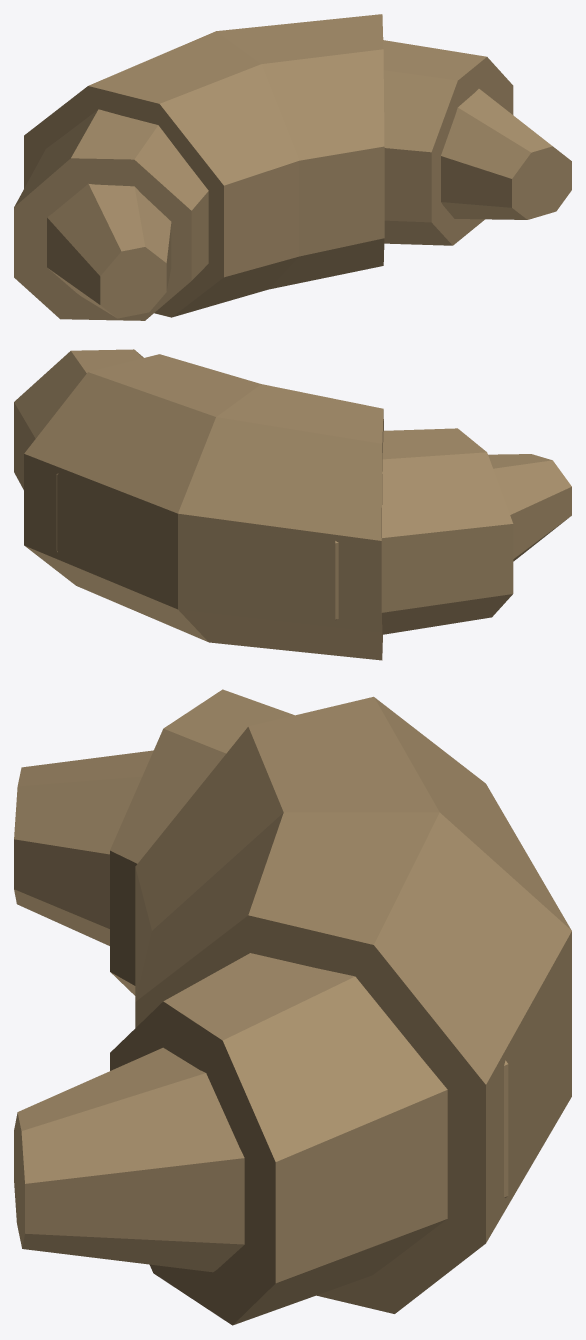
Rendered from croissant-d2df597192.glb.
The picture shows the model from 3 angles, top to bottom: view 1: azimuth 30°, elevation 25°; view 2: azimuth 150°, elevation 25°; view 3: azimuth 270°, elevation 25°; orthographic projection. The views are drawn at different scales.
Parts seen in each view (by area): view 1: Croissant.obj; view 2: Croissant.obj; view 3: Croissant.obj.
Part boxes in pixels (x1=…): Croissant.obj: x1=14, y1=14, x2=571, y2=320; Croissant.obj: x1=14, y1=349, x2=571, y2=660; Croissant.obj: x1=14, y1=689, x2=571, y2=1325.
Size of the model in its own units: 1.3 by 0.5498 by 0.7305.
